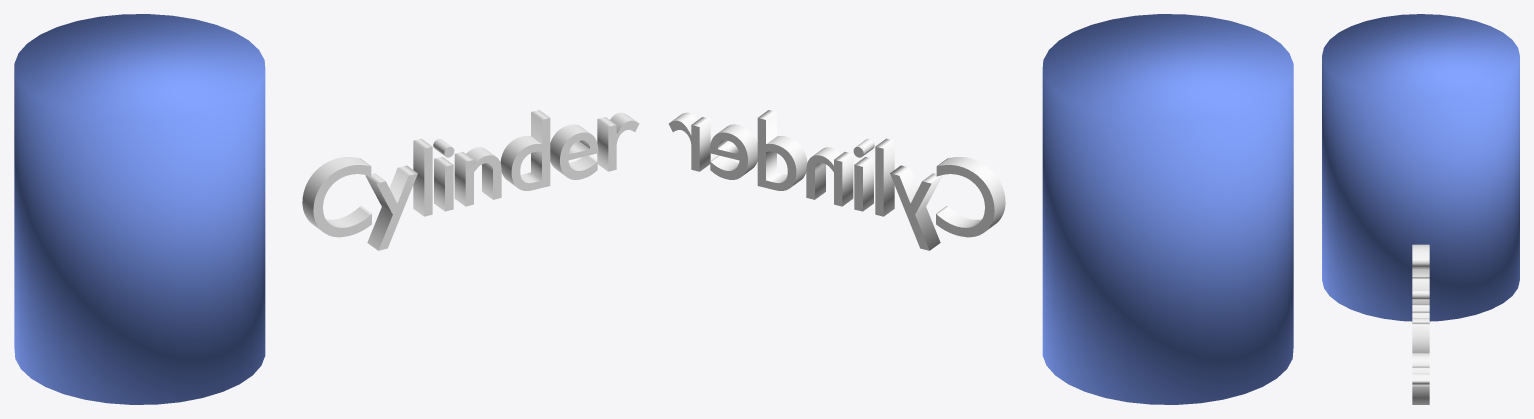
The picture shows the model from 3 angles, left to right: view 1: azimuth 30°, elevation 25°; view 2: azimuth 150°, elevation 25°; view 3: azimuth 270°, elevation 25°; orthographic projection. The views are drawn at different scales.
Visible parts, largest first — view 1: Model_3_Cylinder; view 2: Model_3_Cylinder; view 3: Model_3_Cylinder.
Part boxes in pixels (x1=…): Model_3_Cylinder: x1=14, y1=14, x2=639, y2=404; Model_3_Cylinder: x1=668, y1=14, x2=1293, y2=404; Model_3_Cylinder: x1=1322, y1=14, x2=1519, y2=404.
Bounding box in the file's own units: 4.43 × 2 × 1.6.
